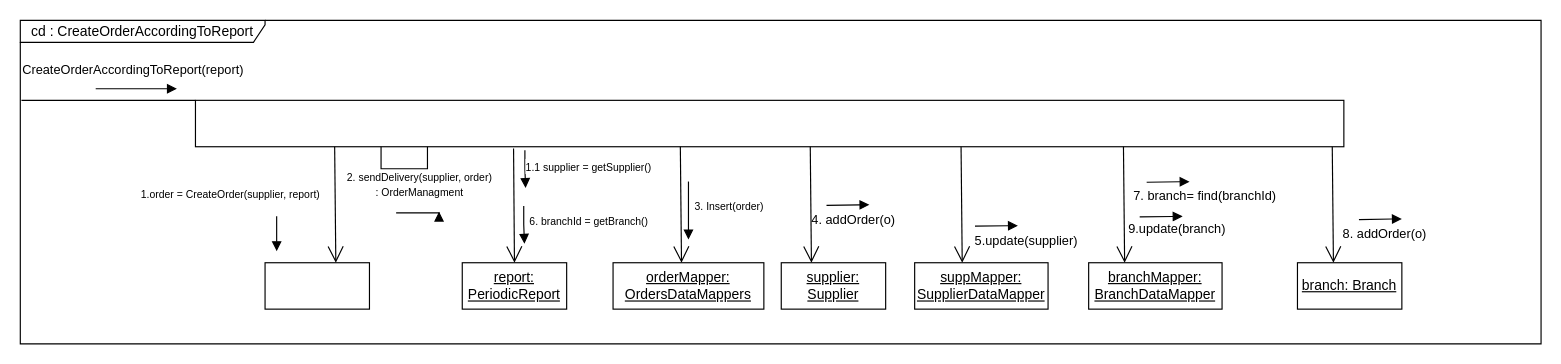
The diagram is 1561 pixels wide and 364 high, and some of its shapes have lost their labels. Here are the shapes that lost their labels. From the top down, the centre of each, then its label:
At (x=769, y=123): "orderManag: OrderManagment".
At (x=316, y=285): "order: Order".
